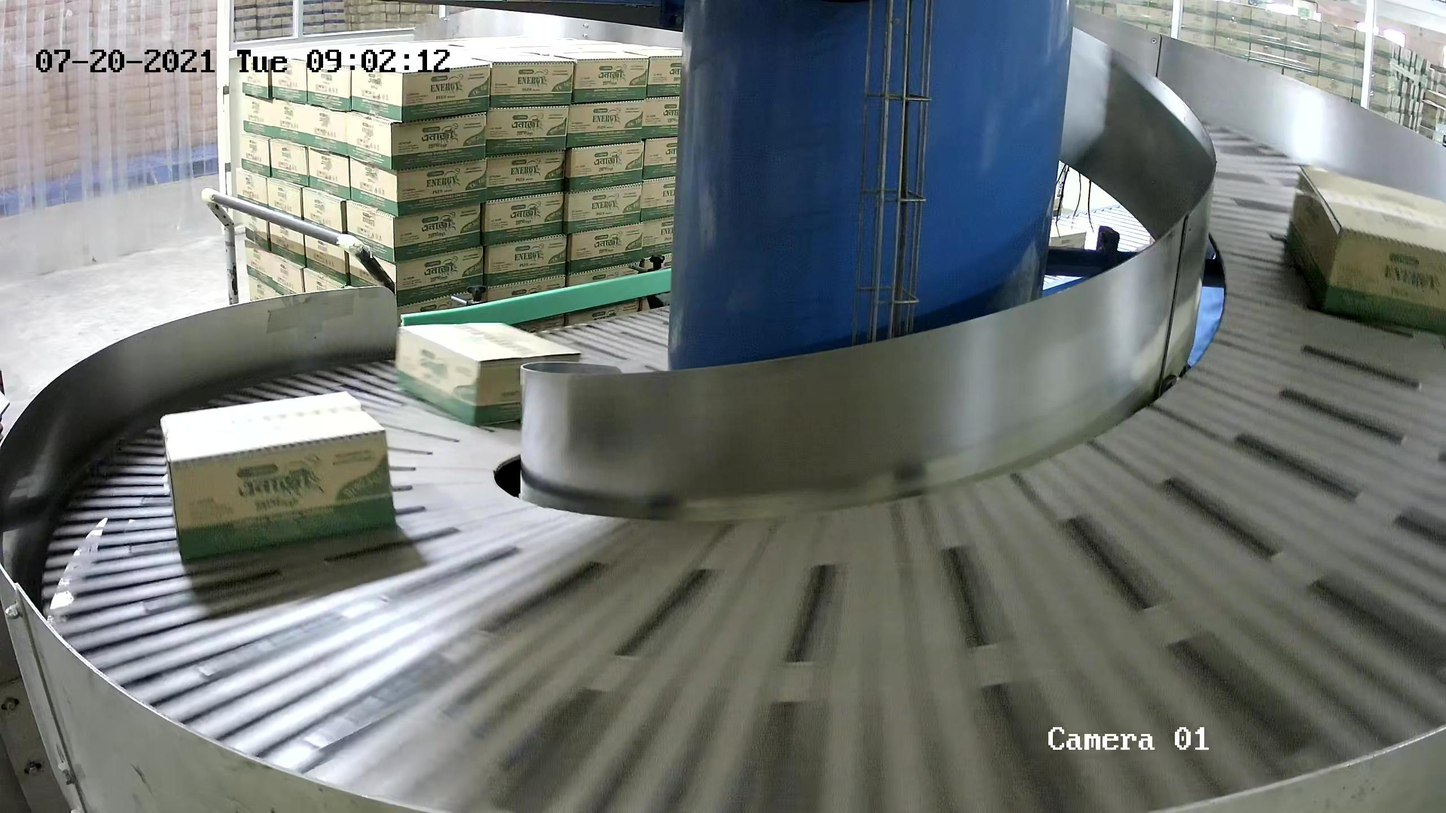Box: (161, 387, 400, 566), (1280, 159, 1446, 342), (394, 319, 585, 430)
